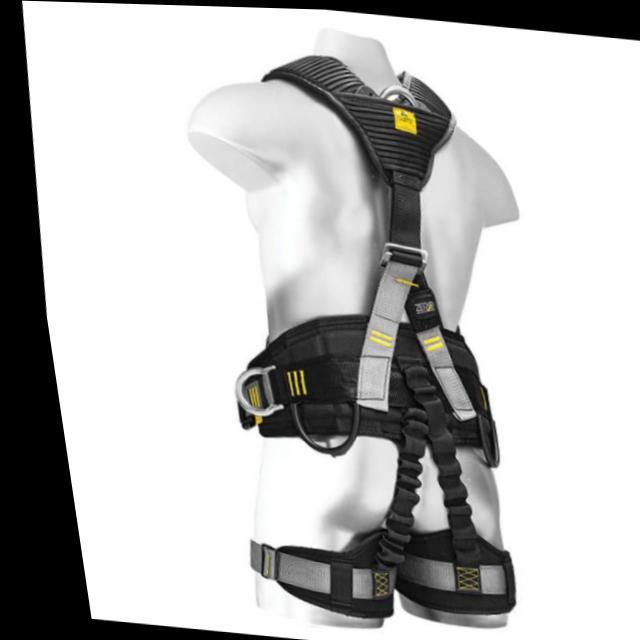belt: (165, 45, 543, 630)
